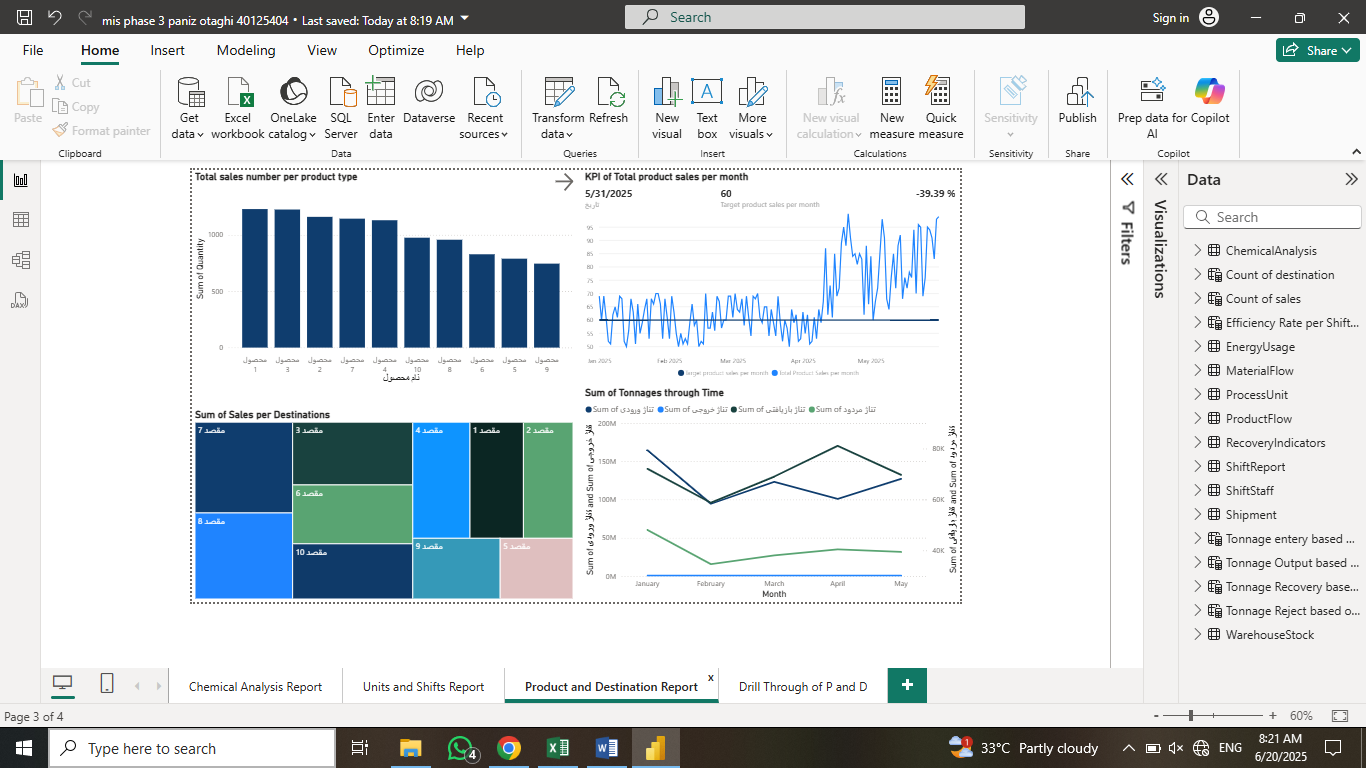

Layout of this report page (visuals, bound fields, positions):
{"tool":"powerbi","page":{"name":"Product and Destination Report","canvas":[1280,720],"ordinal":2},"visuals":[{"type":"clusteredColumnChart","title":"Total sales number per product type","fields":{"Y":["Sum(Count of sales.Quantity)"],"Category":["Count of sales.نام محصول"]},"box":[0,0,640,360],"z":0},{"type":"treemap","title":"Sum of Sales per Destinations","fields":{"Group":["count of destination.مقصد محصول"],"Values":["Sum(count of destination.Sales of Destinations)"]},"box":[0,396.7,640,323.3],"z":1000},{"type":"lineChart","title":"Sum of Tonnages through Time","fields":{"Y":["Sum(ProductFlow.تناژ ورودی)","Sum(ProductFlow.تناژ خروجی)"],"Category":["ProductFlow.تاریخ.Variation.Date Hierarchy.Month"],"Y2":["Sum(ProductFlow.تناژ بازیافتی)","Sum(ProductFlow.تناژ مردود)"]},"box":[650,360,630,360],"z":2000},{"type":"powerKPI462CE5C2666F4EC8A8BDD7E5587320A3","title":"KPI of Total product sales per month","fields":{"Values":["ProductFlow.Target product sales","ProductFlow.Total Product Sales"],"Axis":["ProductFlow.تاریخ"]},"box":[650,0,630,360],"z":3000},{"type":"actionButton","box":[600,0,40,40],"z":4000}]}

Visuals, with their boxes on the page's 1280x720 design canvas (x1, y1, x2, y2). These are canvas units, not pixel positions in the 1366x768 screenshot, which may show the page scaled, cropped or inside an application window:
"Total sales number per product type" clusteredColumnChart: detection(0, 0, 640, 360)
"Sum of Sales per Destinations" treemap: detection(0, 397, 640, 720)
"Sum of Tonnages through Time" lineChart: detection(650, 360, 1280, 720)
"KPI of Total product sales per month" powerKPI462CE5C2666F4EC8A8BDD7E5587320A3: detection(650, 0, 1280, 360)
actionButton: detection(600, 0, 640, 40)
